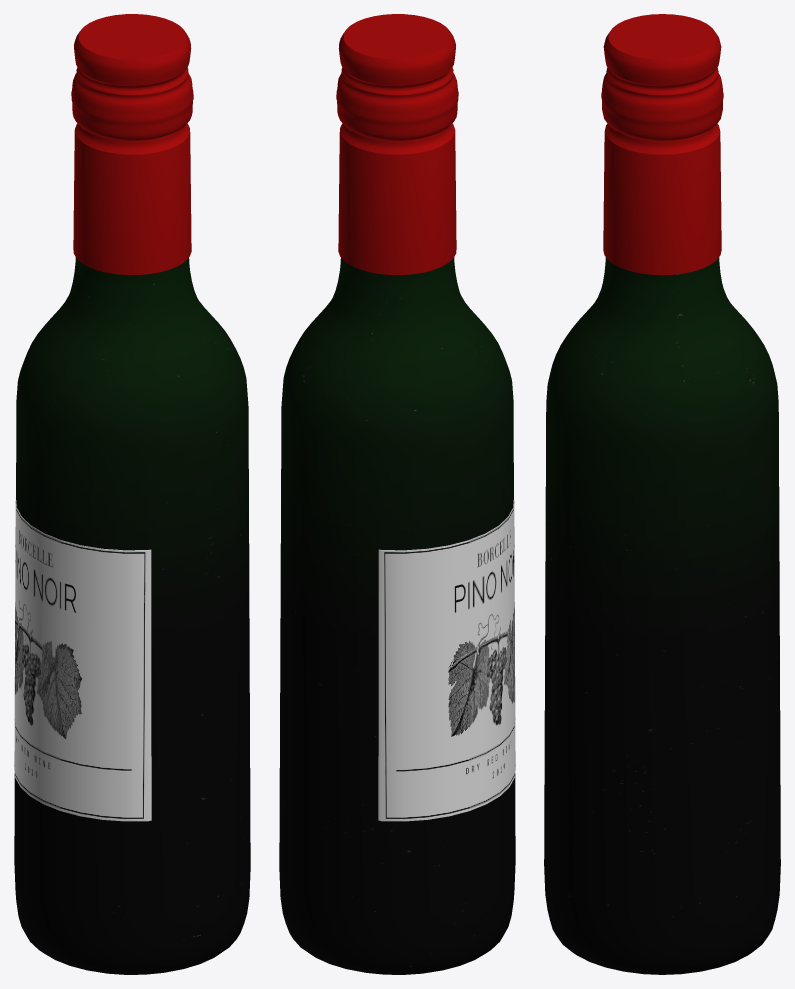
File: WineBottle.fbx
The picture shows the model from 3 angles, left to right: view 1: azimuth 30°, elevation 25°; view 2: azimuth 150°, elevation 25°; view 3: azimuth 270°, elevation 25°; orthographic projection.
Parts seen in each view (by area): view 1: Vert; view 2: Vert; view 3: Vert.
Boxes of the visible parts, left/top/right/bottom form: Vert: left=14, top=14, right=250, bottom=974; Vert: left=279, top=14, right=515, bottom=974; Vert: left=544, top=14, right=780, bottom=974.
Bounding box in the file's own units: 107 × 450 × 107.
